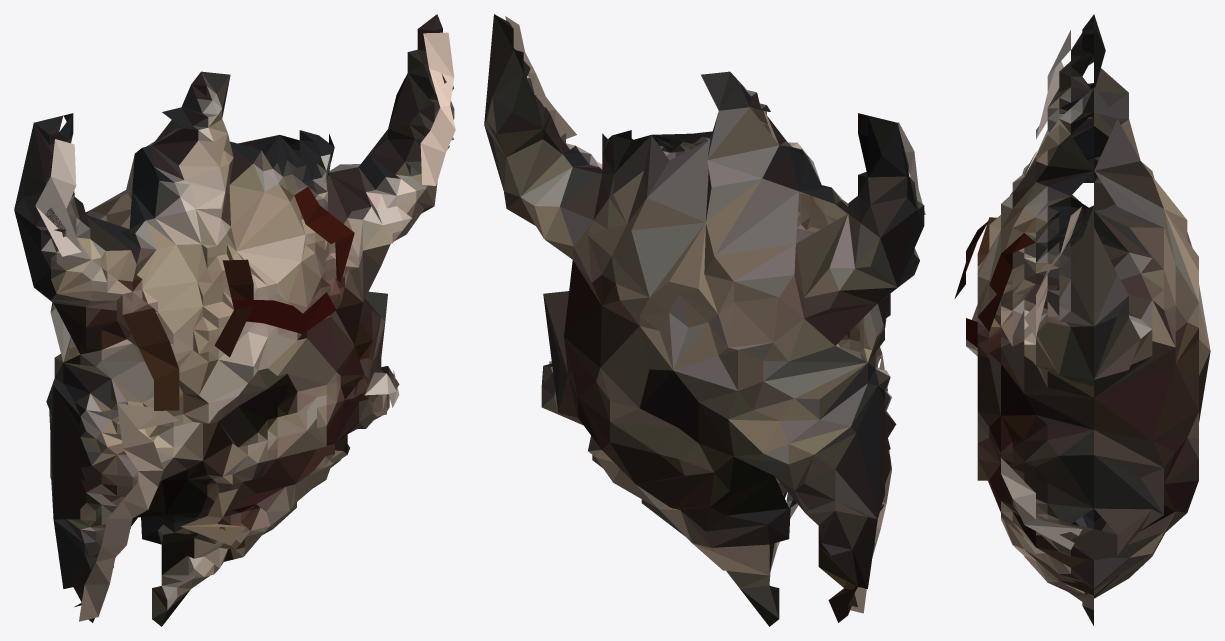
File: B04_4_horned_bone_helm.obj
3 renders of one model, left to right at view 1: azimuth 30°, elevation 25°; view 2: azimuth 150°, elevation 25°; view 3: azimuth 270°, elevation 25°, orthographic. The views are drawn at different scales.
Visible parts, largest first — view 1: B04_4_horned_bone_helm; view 2: B04_4_horned_bone_helm; view 3: B04_4_horned_bone_helm.
Part boxes in pixels (<box>): B04_4_horned_bone_helm: <box>14,14,455,626</box>; B04_4_horned_bone_helm: <box>484,14,925,626</box>; B04_4_horned_bone_helm: <box>954,14,1210,625</box>.
Size of the model in its own units: 44 by 53 by 22.
